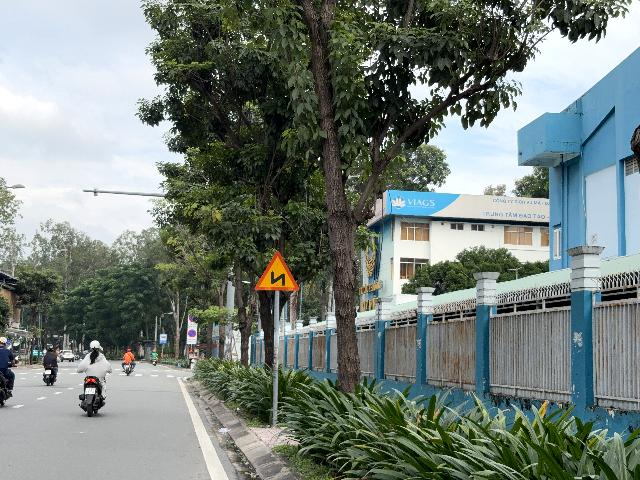nhieu-cho-ngoat-nguy-hiem-lien-tiep: (254, 251, 299, 291)
